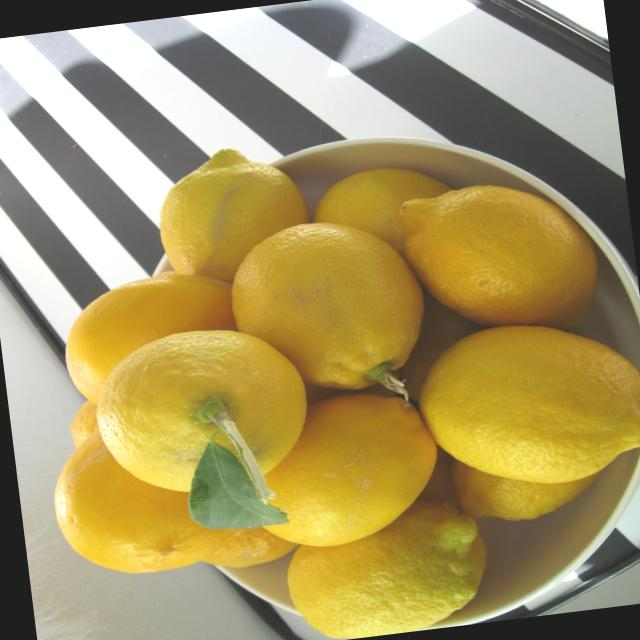lemon: (406, 310, 640, 500), (88, 318, 316, 501), (225, 222, 432, 399), (243, 385, 447, 553), (398, 181, 604, 343), (279, 495, 493, 640), (150, 138, 315, 286)
